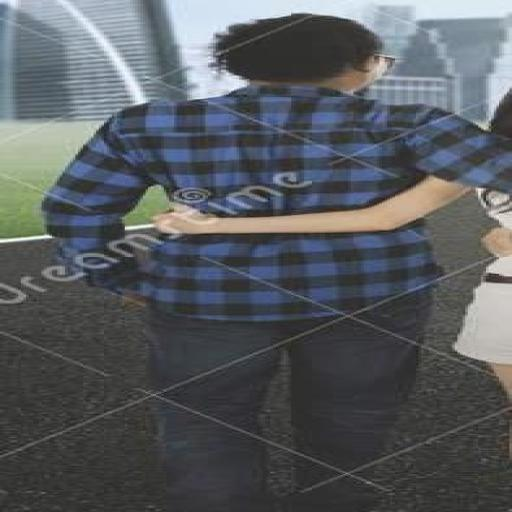person: (42, 14, 511, 511)
